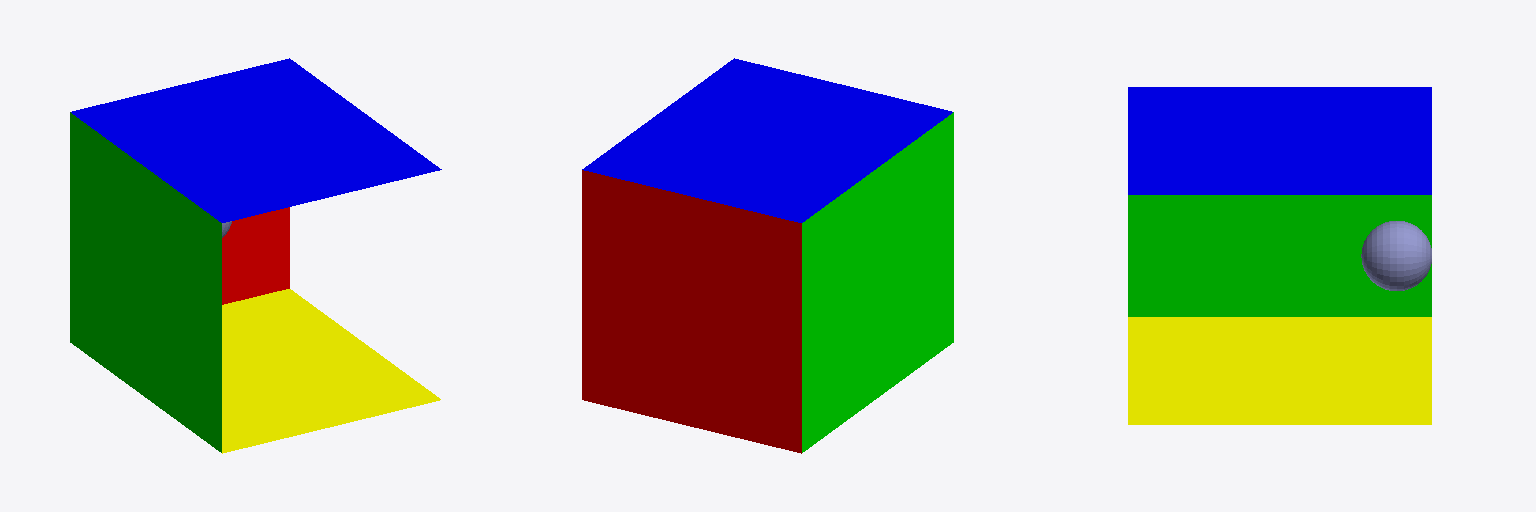
Rendered from bolaCajaDeColoresT.obj.
The picture shows the model from 3 angles: view 1: azimuth 30°, elevation 25°; view 2: azimuth 150°, elevation 25°; view 3: azimuth 270°, elevation 25°; orthographic projection.
Parts seen in each view (by area): view 1: Box01; view 2: Box01; view 3: Box01, Sphere01.
Boxes of the visible parts, x1=… form: Box01: x1=70, y1=58, x2=441, y2=453; Box01: x1=582, y1=58, x2=953, y2=453; Box01: x1=1128, y1=87, x2=1431, y2=424; Sphere01: x1=1361, y1=221, x2=1431, y2=290.
Size of the model in its own units: 50 by 50 by 60.